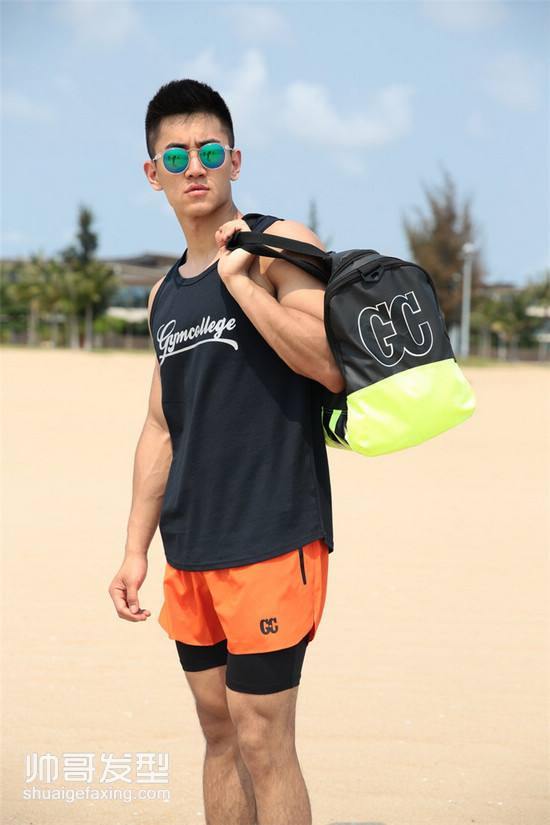person: (132, 78, 374, 799)
